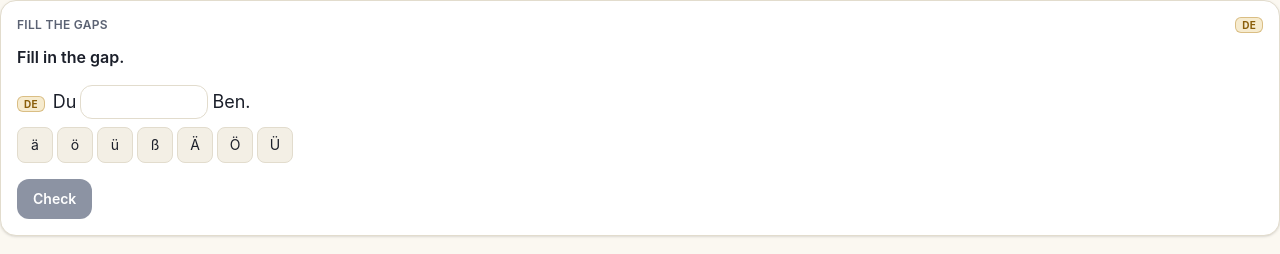
Test case: ExercisePlayer — gap › does not record attempts when record is off (placement test)
Type "bist" into the field named "Gap 1".
click(144, 102); type("bist")  # box [80,85,208,119]
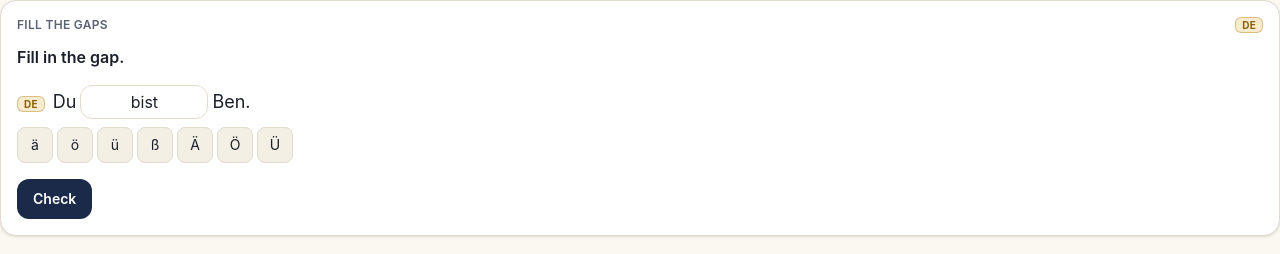
Click the button "Check".
click(55, 199)  # box [17,179,92,219]
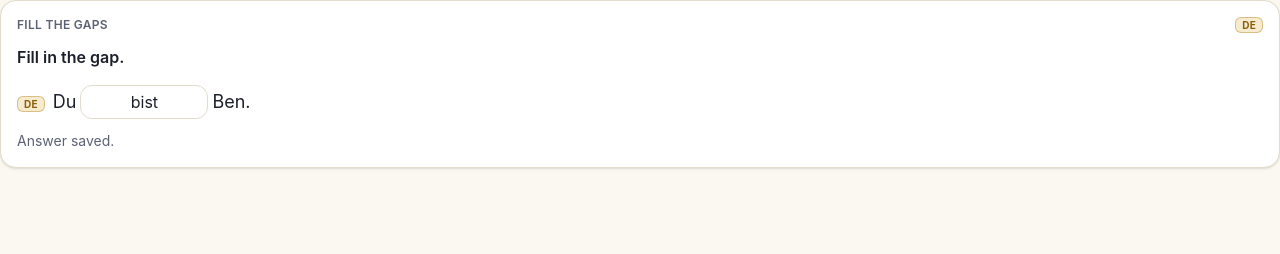
Expected: the text "Answer saved." is shown, [17,132,114,149]
